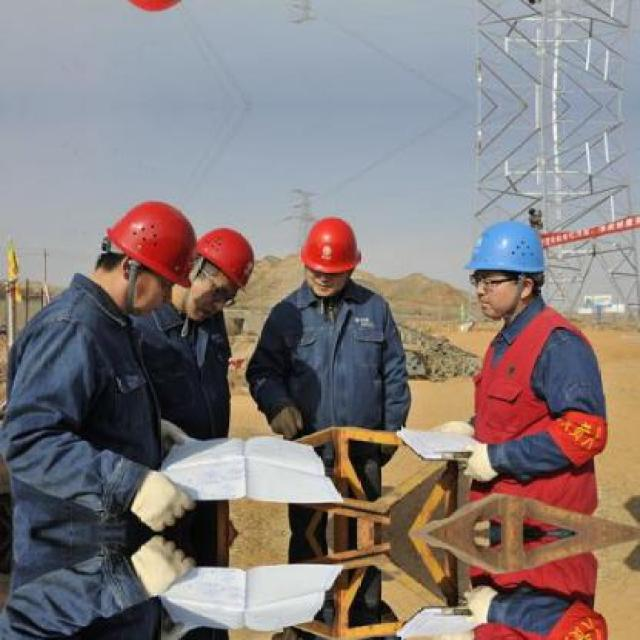helmet: (98, 194, 200, 308), (461, 216, 552, 322), (184, 220, 259, 306), (295, 210, 363, 300)
